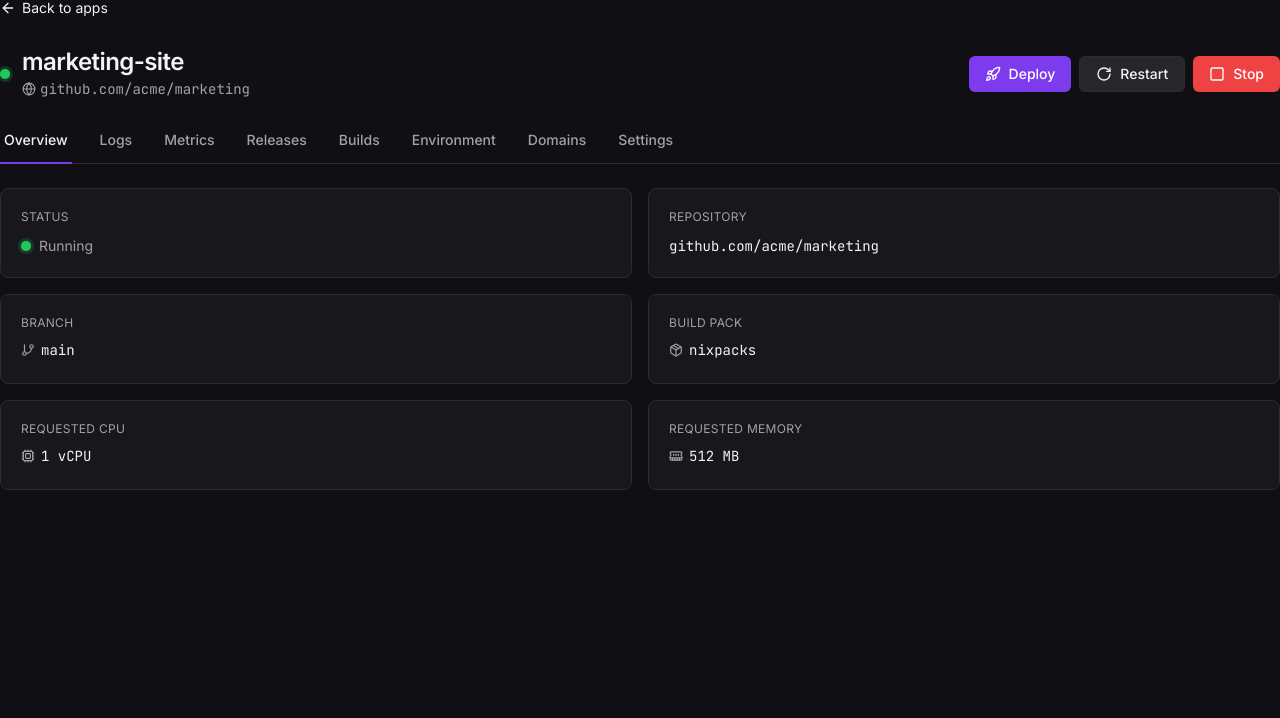
Scenario: AppDetailPage — delete app › surfaces the backend message and keeps the page on delete failure
This screenshot has width=1280, height=718.
Check: the heading "marketing-site" is shown, box [22,47,184,76]
Click the tab "Settings".
click(646, 145)  # box [614,126,677,164]
(page scrolled)
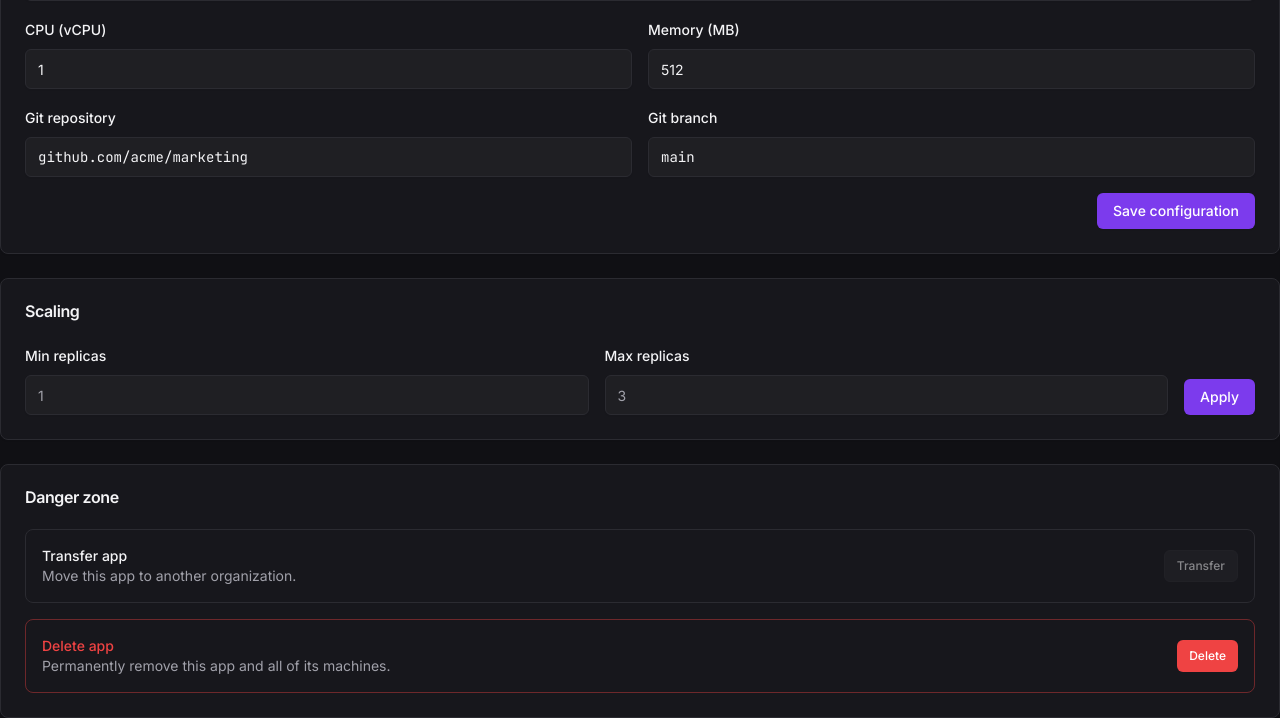
Click the button "Delete".
click(1208, 656)  # box [1177,640,1238,672]
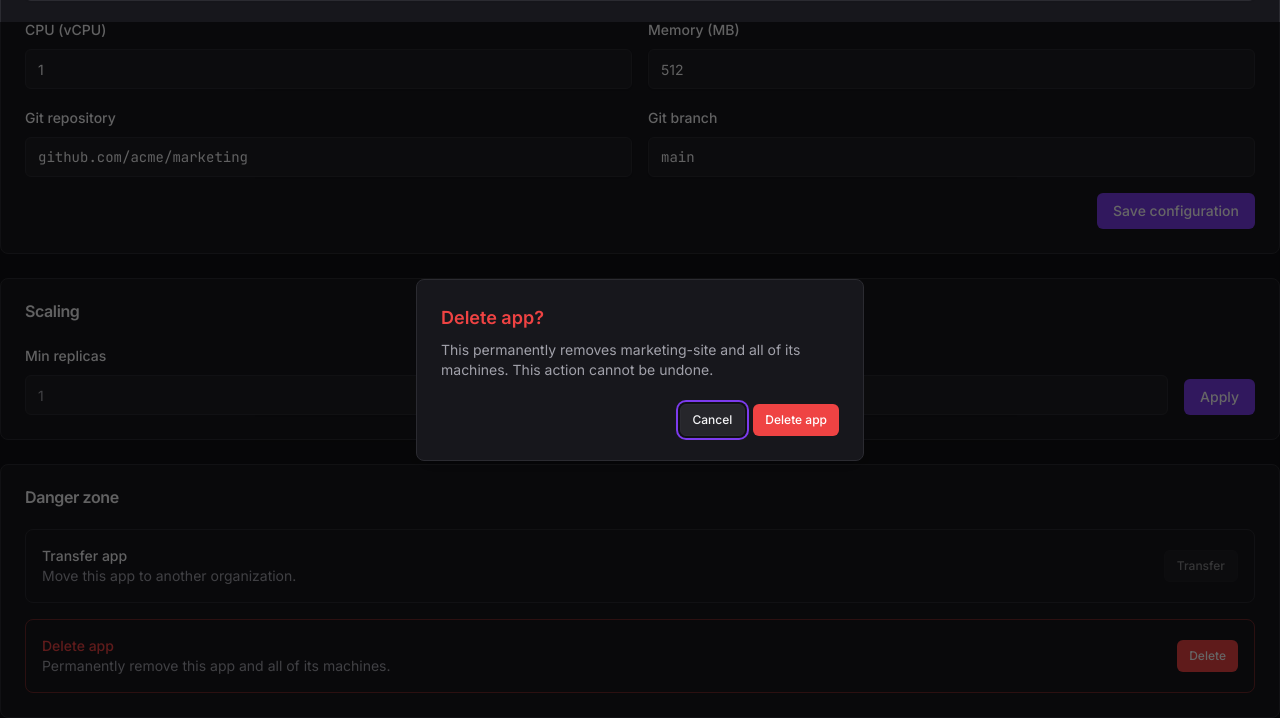
Click the button "Delete app".
click(796, 420)  # box [753,404,839,436]
(page scrolled)
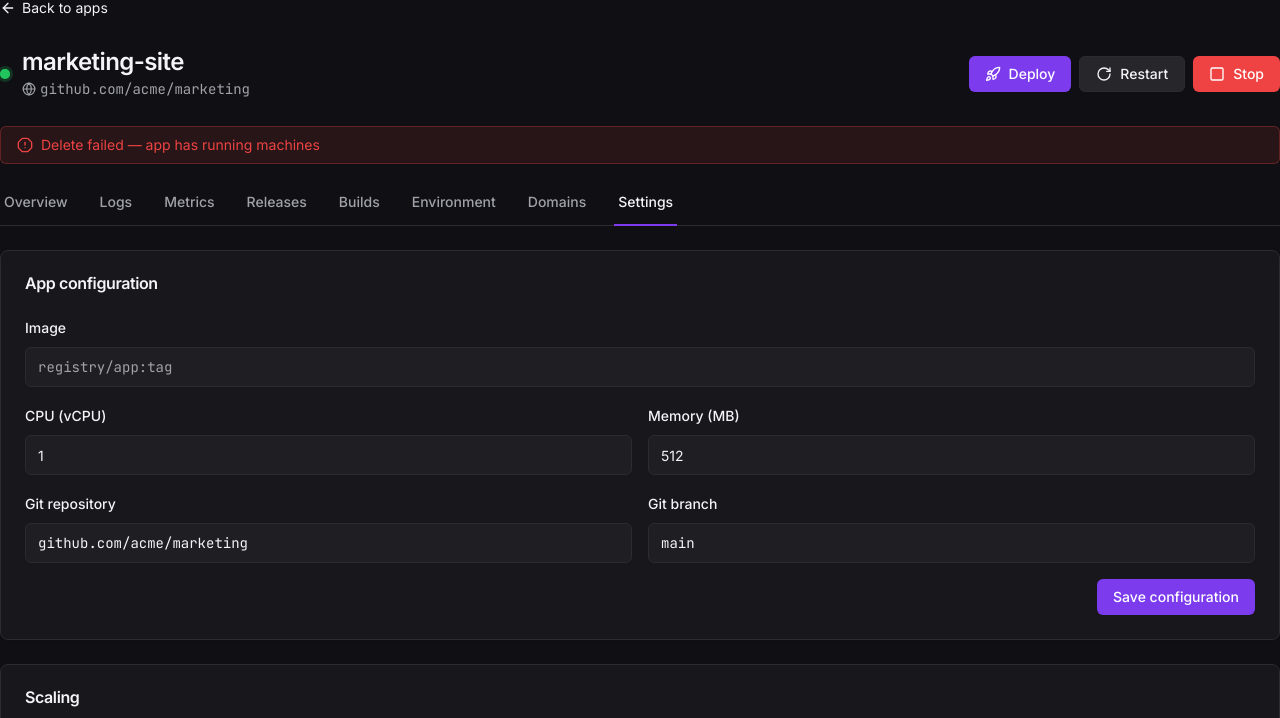
Check: the text "Delete failed — app has running machines" is shown, box [41,136,320,153]
